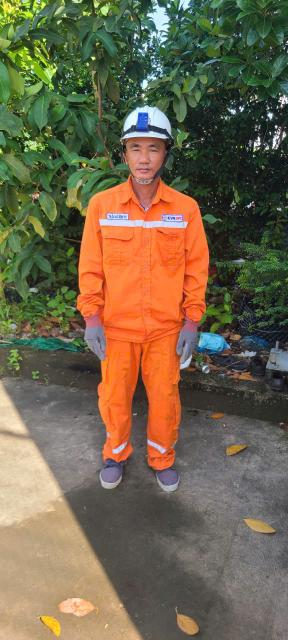gloves: (78, 317, 118, 372), (172, 324, 203, 372)
helmet: (112, 103, 186, 150)
shoes: (140, 448, 192, 512), (91, 441, 128, 504)
